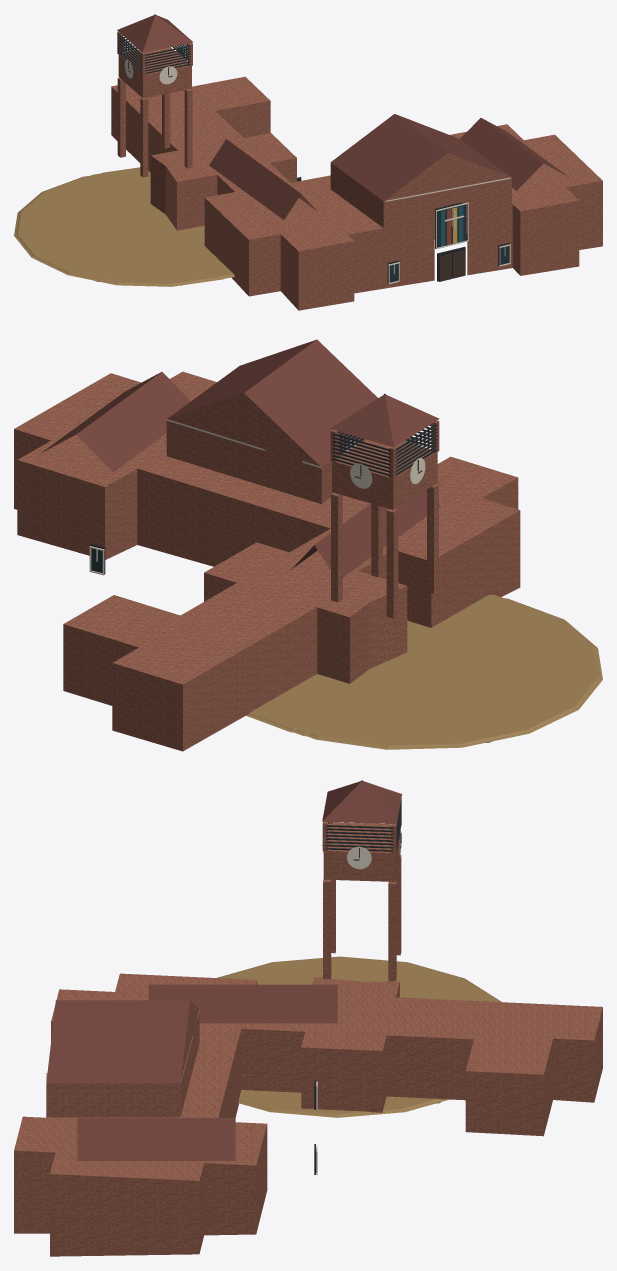
File: paris-yates.glb
The picture shows the model from 3 angles, top to bottom: view 1: azimuth 30°, elevation 25°; view 2: azimuth 150°, elevation 25°; view 3: azimuth 270°, elevation 25°; orthographic projection. The views are drawn at different scales.
Parts seen in each view (by area): view 1: Clock chamber at about 76 percent of measured tower height, East low wing, Tall open brick carillon shaft below clock, Raised gabled nave and south entrance, Louvered upper lantern and low pyramidal cap; view 2: East low wing, Clock chamber at about 76 percent of measured tower height, Tall open brick carillon shaft below clock, Louvered upper lantern and low pyramidal cap; view 3: East low wing, Clock chamber at about 76 percent of measured tower height, Tall open brick carillon shaft below clock, Louvered upper lantern and low pyramidal cap.
Part boxes in pixels (left/top/right/bottom): Clock chamber at about 76 percent of measured tower height: left=95, top=14, right=602, bottom=310; East low wing: left=111, top=15, right=602, bottom=251; Tall open brick carillon shaft below clock: left=14, top=167, right=234, bottom=286; Raised gabled nave and south entrance: left=389, top=204, right=508, bottom=282; Louvered upper lantern and low pyramidal cap: left=118, top=34, right=509, bottom=283; East low wing: left=14, top=339, right=519, bottom=684; Clock chamber at about 76 percent of measured tower height: left=14, top=393, right=520, bottom=751; Tall open brick carillon shaft below clock: left=246, top=594, right=602, bottom=749; Louvered upper lantern and low pyramidal cap: left=90, top=424, right=437, bottom=574; East low wing: left=14, top=781, right=602, bottom=1180; Clock chamber at about 76 percent of measured tower height: left=14, top=780, right=602, bottom=1256; Tall open brick carillon shaft below clock: left=217, top=956, right=501, bottom=1117; Louvered upper lantern and low pyramidal cap: left=314, top=799, right=401, bottom=1174.
Size of what is drawn, in the model's own units: 54.68 by 24.63 by 47.38.
12 materials, 2 textured.
